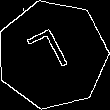L_SE: (27, 25, 78, 84)
